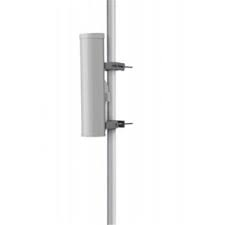sa: (62, 22, 124, 152)
